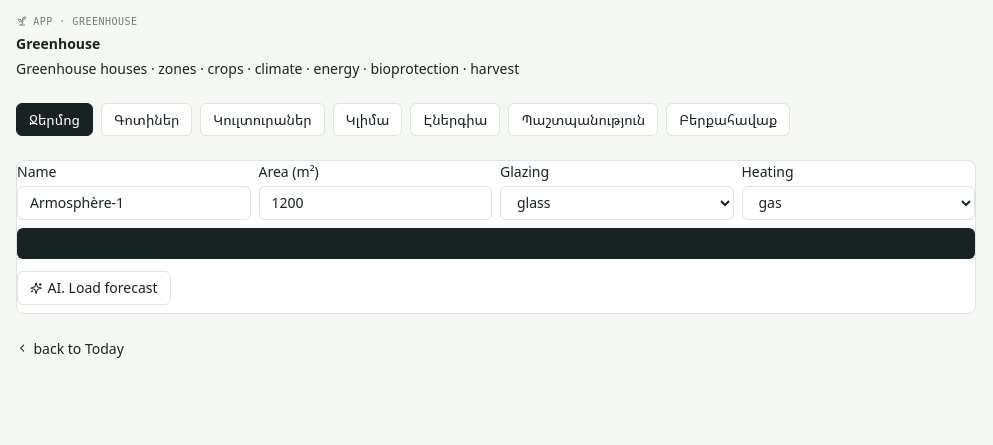
Greenhouse — tab switching › clicking the harvest tab reveals the greenhouse-harvest-panel panel
The width and height of the screenshot is (993, 445).
Step 1. Click the tab with test id "greenhouse-tab-harvest" → (728,119), box left=666, top=102, right=790, bottom=136
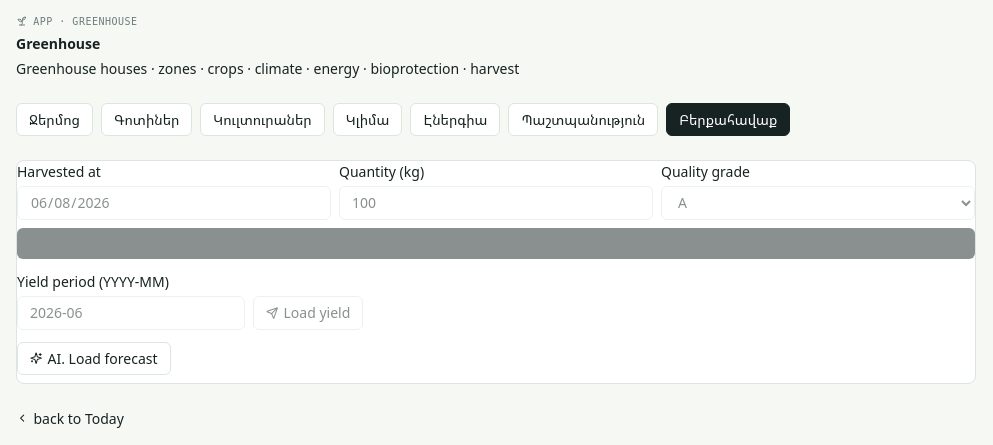
Expected: the element with test id "greenhouse-harvest-panel" is shown, left=16, top=160, right=976, bottom=384
